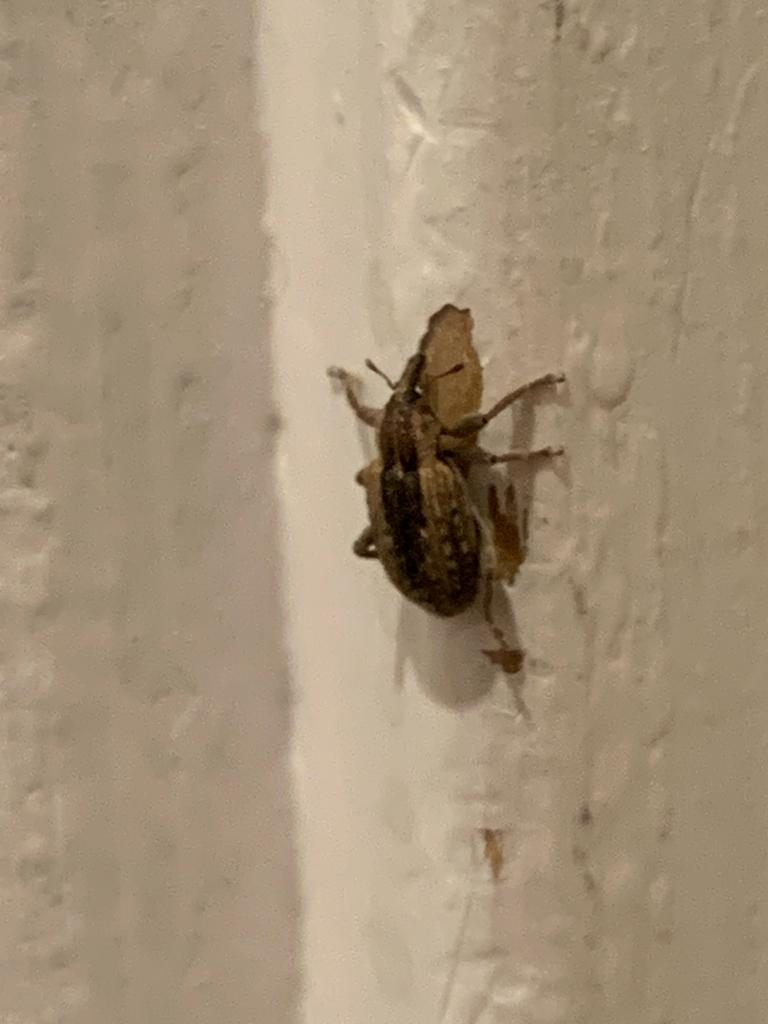weevils: (266, 291, 607, 683)
